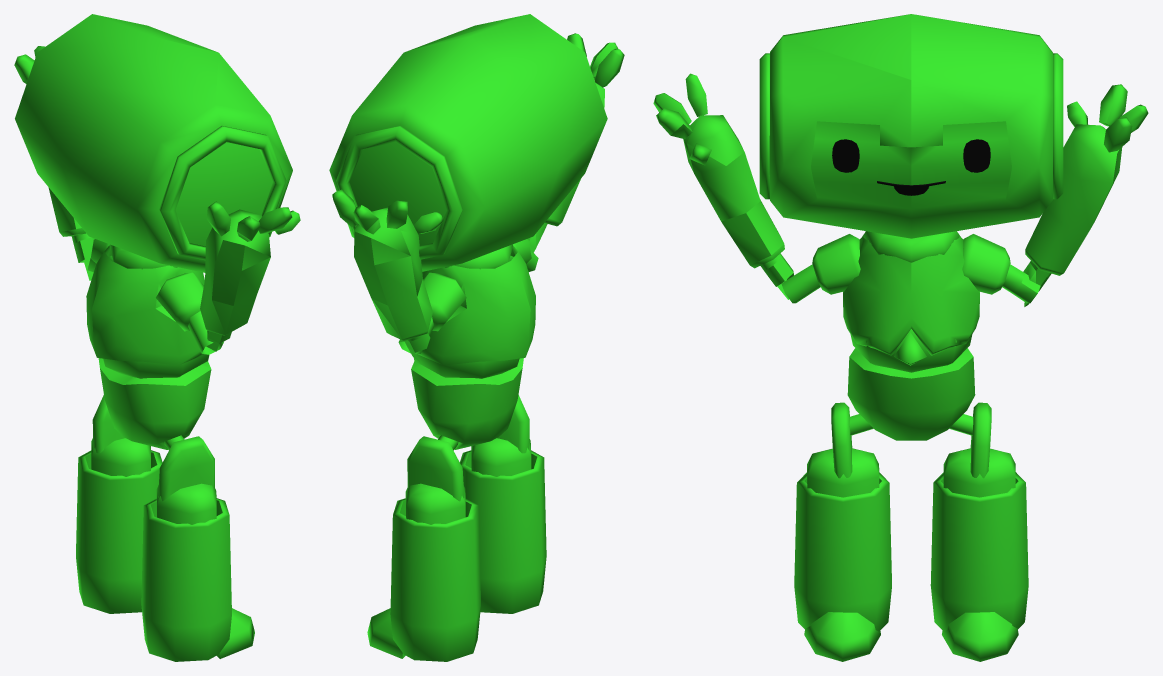
The model's file is Level3_newgreenrobot.fbx.
3 views of the same model, side by side, from view 1: azimuth 30°, elevation 25°; view 2: azimuth 150°, elevation 25°; view 3: azimuth 270°, elevation 25° (orthographic). The views are drawn at different scales.
Visible parts, largest first — view 1: mesh_101.001; view 2: mesh_101.001; view 3: mesh_101.001.
Boxes of the visible parts, x1,y1,x2,y2 form: mesh_101.001: [14, 14, 300, 661]; mesh_101.001: [329, 14, 624, 661]; mesh_101.001: [653, 14, 1148, 661].
Bounding box in the file's own units: 111 × 355 × 260.
